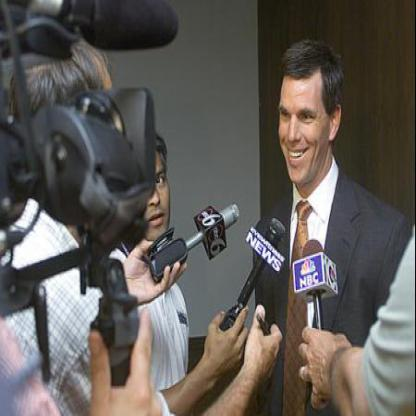face: (277, 52, 333, 188), (125, 139, 175, 246)
